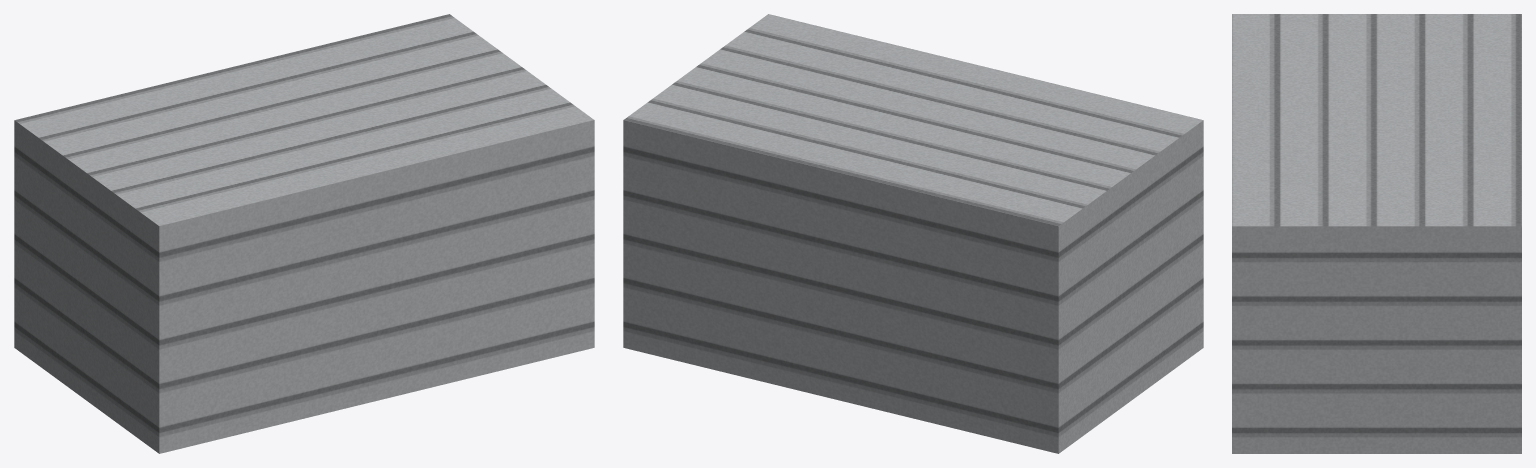
The model's file is loveseat_settee.glb.
3 views of the same model, side by side, from view 1: azimuth 30°, elevation 25°; view 2: azimuth 150°, elevation 25°; view 3: azimuth 270°, elevation 25° (orthographic).
Visible parts, largest first — view 1: loveseat_settee-col; view 2: loveseat_settee-col; view 3: loveseat_settee-col.
Boxes of the visible parts, x1=… form: loveseat_settee-col: x1=14, y1=14, x2=594, y2=453; loveseat_settee-col: x1=623, y1=14, x2=1203, y2=453; loveseat_settee-col: x1=1232, y1=14, x2=1521, y2=453.
Size of the model in its own units: 1.3 by 0.65 by 0.75.
1 material, 1 textured.
